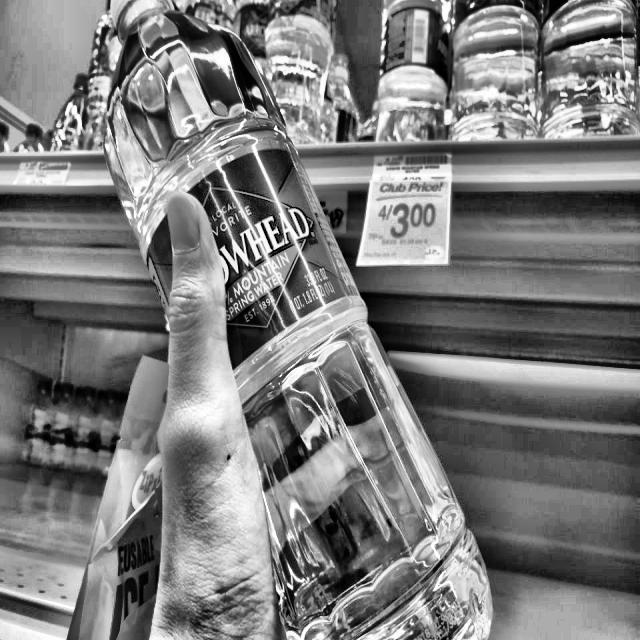waterbottle: (92, 0, 500, 640)
